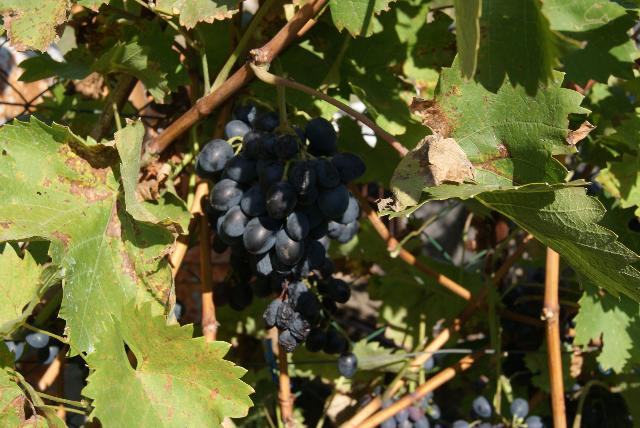grapes: (195, 102, 366, 378)
